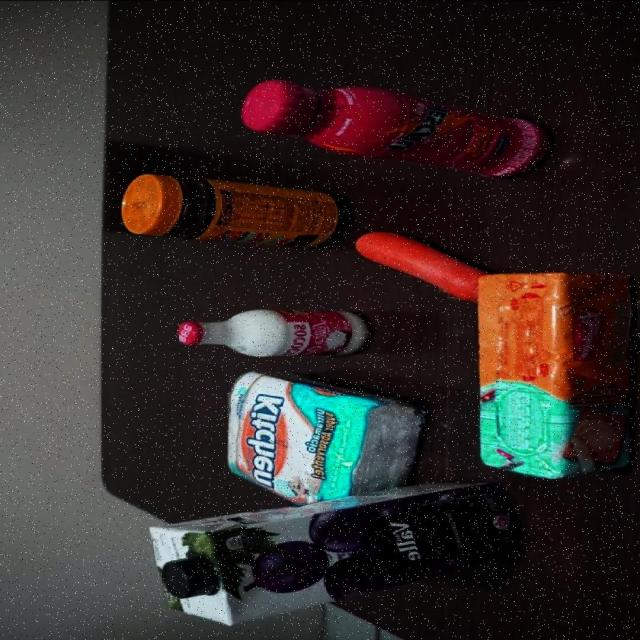Carrot: (356, 230, 476, 310)
ChocolateMilk: (241, 77, 558, 181)
ChocolatePowder: (118, 172, 354, 255)
CoconutMilk: (176, 307, 374, 357)
Cracker: (473, 270, 636, 480)
Napkin: (225, 369, 429, 507)
